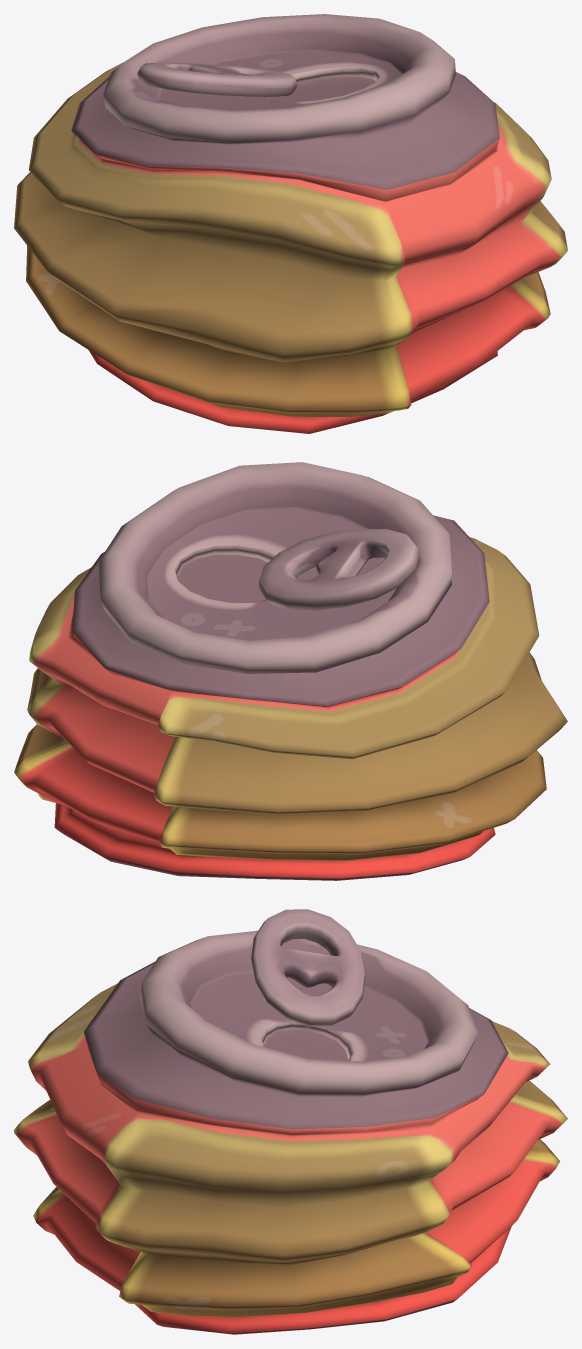
File: Soda_Crushed.fbx
The picture shows the model from 3 angles, top to bottom: view 1: azimuth 30°, elevation 25°; view 2: azimuth 150°, elevation 25°; view 3: azimuth 270°, elevation 25°; orthographic projection. The views are drawn at different scales.
Visible parts, largest first — view 1: Soda_Crushed; view 2: Soda_Crushed; view 3: Soda_Crushed.
Part boxes in pixels (x1=…): Soda_Crushed: x1=14, y1=14, x2=567, y2=433; Soda_Crushed: x1=14, y1=462, x2=567, y2=880; Soda_Crushed: x1=14, y1=909, x2=567, y2=1334.
Size of the model in its own units: 856 by 562 by 904.
